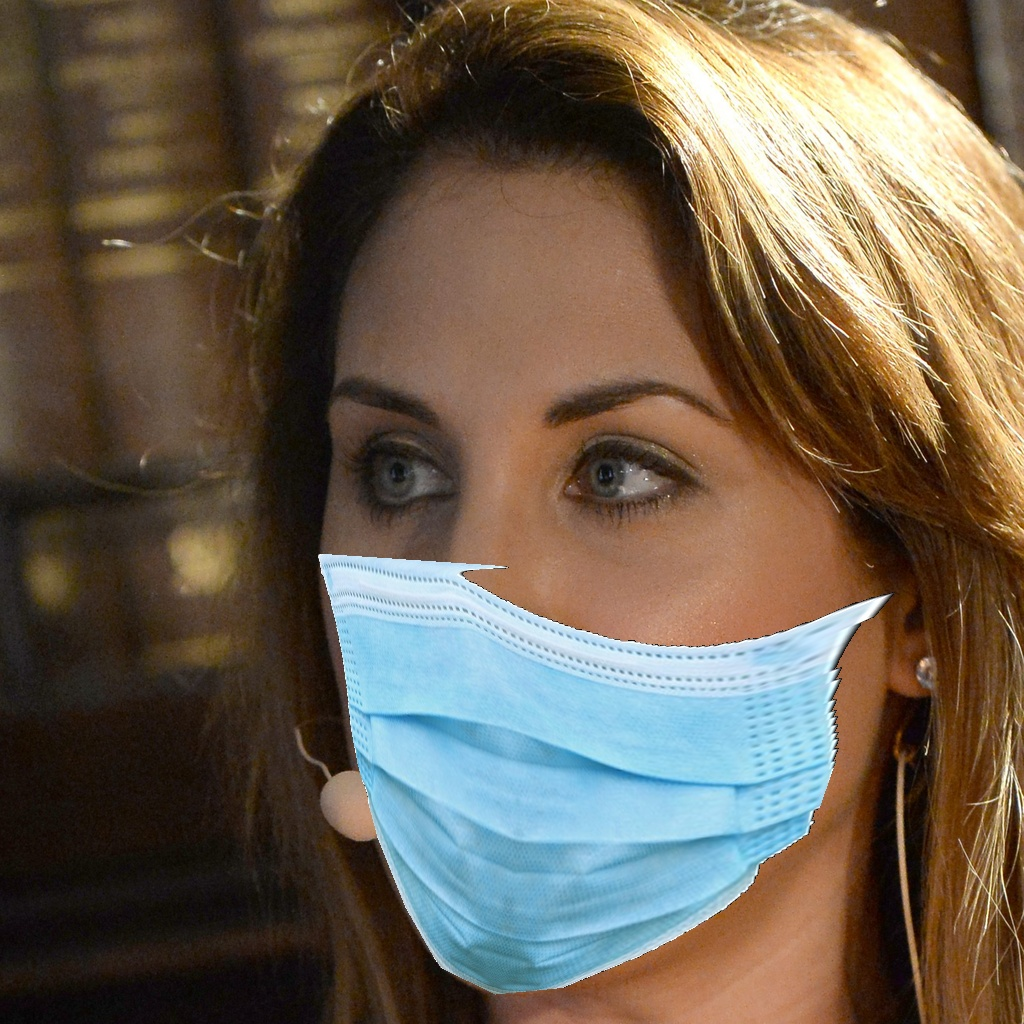Mask: (306, 336, 896, 996)
